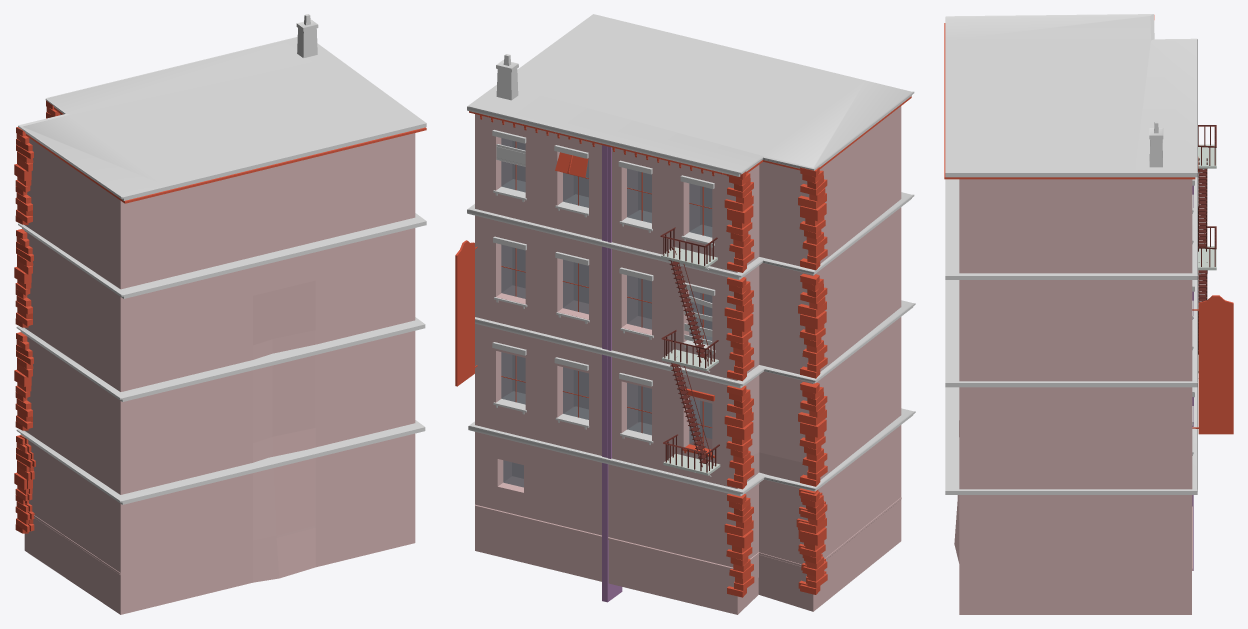
The model's file is building_1.fbx.
The picture shows the model from 3 angles, left to right: view 1: azimuth 30°, elevation 25°; view 2: azimuth 150°, elevation 25°; view 3: azimuth 270°, elevation 25°; orthographic projection. The views are drawn at different scales.
Visible parts, largest first — view 1: building.001; view 2: building.001; view 3: building.001.
Part boxes in pixels (box(x1,y1,x2,y2)): building.001: box(14, 14, 426, 614); building.001: box(455, 14, 915, 614); building.001: box(944, 14, 1233, 614).
Bounding box in the file's own units: 3501 × 5131 × 2672.
